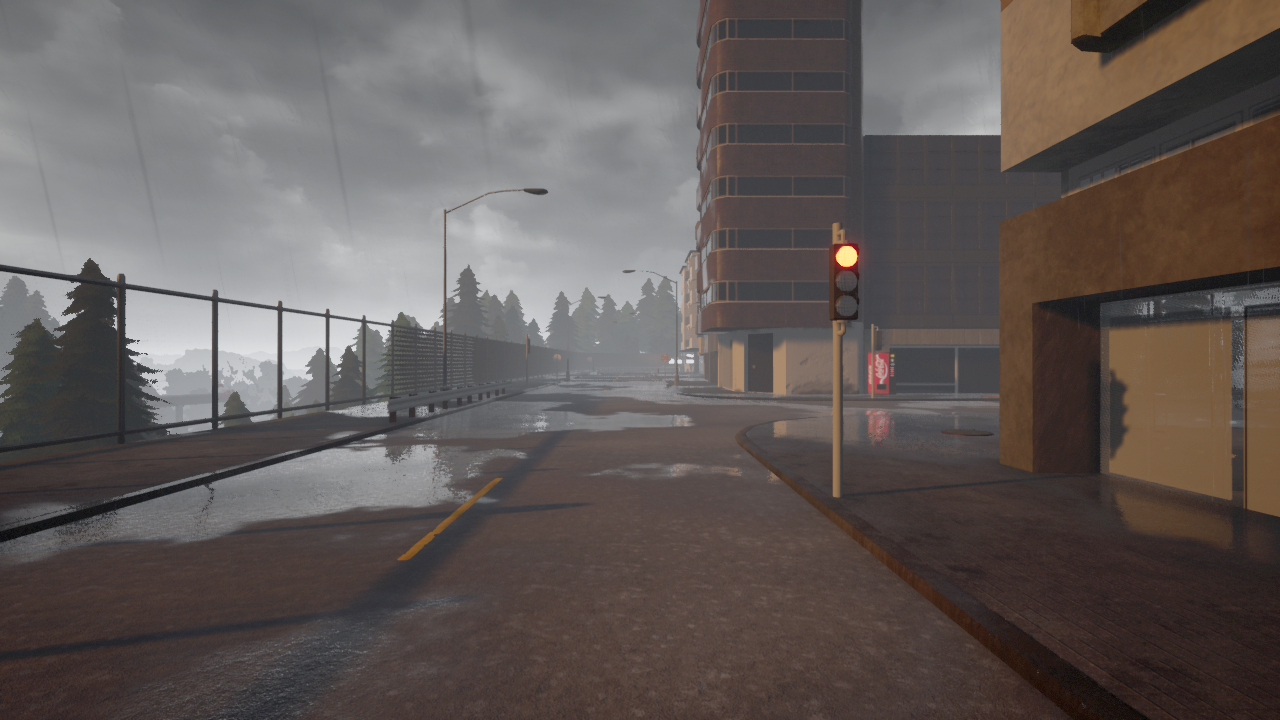red: (828, 242, 863, 320)
